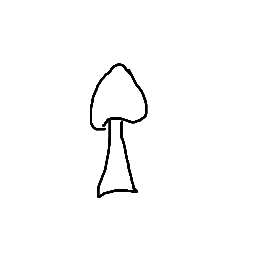mushroom: (1, 1, 255, 255)
